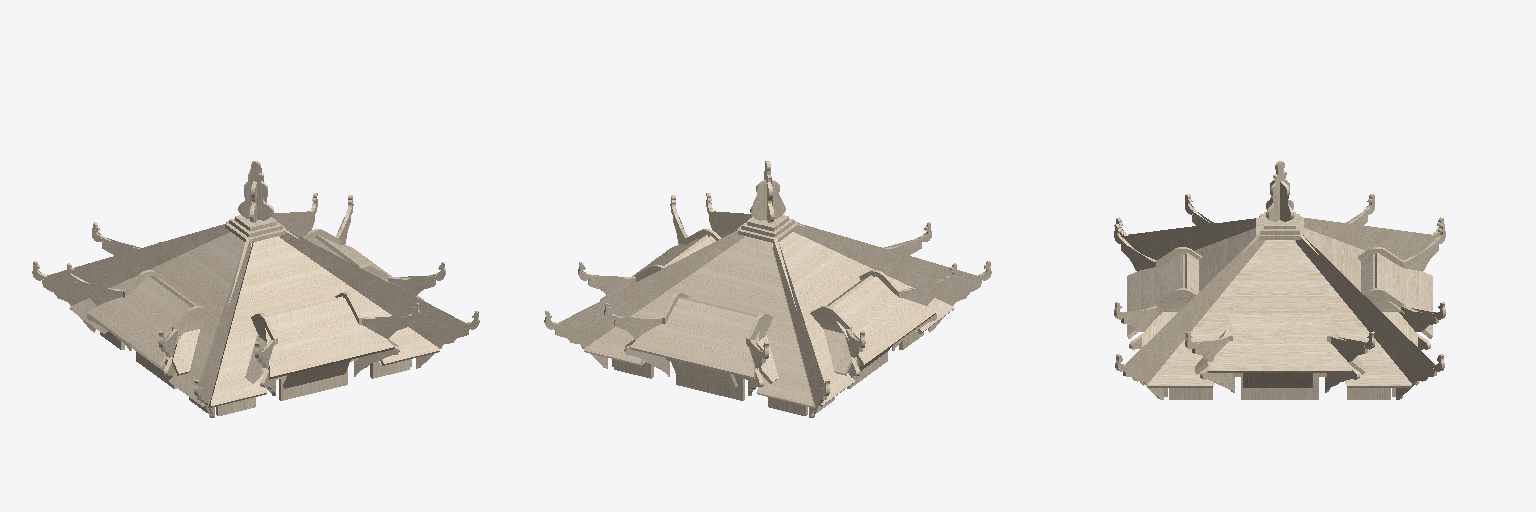
3 renders of one model, left to right at view 1: azimuth 30°, elevation 25°; view 2: azimuth 150°, elevation 25°; view 3: azimuth 270°, elevation 25°, orthographic.
Visible parts, largest first — view 1: Mesh89 ___620_3 ___660_3 ___1326_1 Model, Mesh85 ___654_5 ___1326_1 Model, Mesh62 ___628_4 ___659_4 ___1326_1 Model, Mesh99 ___654_6 ___1326_1 Model, Mesh7 ___620_1 ___660_1 ___1326_1 Model, Mesh52 ___628_2 ___659_2 ___1326_1 Model, Mesh54 ___654_2 ___1326_1 Model, Mesh20 ___654_1 ___1326_1 Model, Mesh58 ___628_3 ___659_3 ___1326_1 Model, Mesh22 __1 ___650_1 ___1326_1 Model, Mesh2 ___668_1 ___1326_1 Model, Mesh98 ___611_3 ___660_3 ___1326_1 Model (+7 smaller); view 2: Mesh105 ___620_4 ___660_4 ___1326_1 Model, Mesh101 ___654_8 ___1326_1 Model, Mesh67 ___654_3 ___1326_1 Model, Mesh25 ___628_1 ___659_1 ___1326_1 Model, Mesh7 ___620_1 ___660_1 ___1326_1 Model, Mesh58 ___628_3 ___659_3 ___1326_1 Model, Mesh20 ___654_1 ___1326_1 Model, Mesh54 ___654_2 ___1326_1 Model, Mesh52 ___628_2 ___659_2 ___1326_1 Model, Mesh69 ___668_4 ___1326_1 Model, Mesh114 ___611_4 ___660_4 ___1326_1 Model, Mesh15 ___624_2 ___660_1 ___1326_1 Model (+7 smaller); view 3: Mesh75 ___620_2 ___660_2 ___1326_1 Model, Mesh100 ___654_7 ___1326_1 Model, Mesh71 ___654_4 ___1326_1 Model, Mesh25 ___628_1 ___659_1 ___1326_1 Model, Mesh62 ___628_4 ___659_4 ___1326_1 Model, Mesh52 ___628_2 ___659_2 ___1326_1 Model, Mesh58 ___628_3 ___659_3 ___1326_1 Model, Mesh89 ___620_3 ___660_3 ___1326_1 Model, Mesh105 ___620_4 ___660_4 ___1326_1 Model, Mesh85 ___654_5 ___1326_1 Model, Mesh101 ___654_8 ___1326_1 Model, Mesh84 ___611_2 ___660_2 ___1326_1 Model (+10 smaller).
Boxes of the visible parts, x1,y1,x2,y2 form: Mesh89 ___620_3 ___660_3 ___1326_1 Model: [265, 298, 394, 379]; Mesh85 ___654_5 ___1326_1 Model: [209, 239, 294, 407]; Mesh62 ___628_4 ___659_4 ___1326_1 Model: [280, 229, 469, 346]; Mesh99 ___654_6 ___1326_1 Model: [266, 236, 439, 365]; Mesh7 ___620_1 ___660_1 ___1326_1 Model: [88, 276, 190, 366]; Mesh52 ___628_2 ___659_2 ___1326_1 Model: [42, 222, 229, 304]; Mesh54 ___654_2 ___1326_1 Model: [169, 237, 244, 406]; Mesh20 ___654_1 ___1326_1 Model: [69, 232, 237, 333]; Mesh58 ___628_3 ___659_3 ___1326_1 Model: [197, 237, 250, 403]; Mesh22 __1 ___650_1 ___1326_1 Model: [238, 161, 273, 220]; Mesh2 ___668_1 ___1326_1 Model: [279, 368, 347, 400]; Mesh98 ___611_3 ___660_3 ___1326_1 Model: [283, 360, 350, 388]; Mesh105 ___620_4 ___660_4 ___1326_1 Model: [629, 298, 759, 379]; Mesh101 ___654_8 ___1326_1 Model: [729, 239, 814, 407]; Mesh67 ___654_3 ___1326_1 Model: [584, 236, 757, 365]; Mesh25 ___628_1 ___659_1 ___1326_1 Model: [554, 229, 743, 346]; Mesh7 ___620_1 ___660_1 ___1326_1 Model: [833, 276, 935, 366]; Mesh58 ___628_3 ___659_3 ___1326_1 Model: [794, 222, 981, 304]; Mesh20 ___654_1 ___1326_1 Model: [779, 237, 854, 406]; Mesh54 ___654_2 ___1326_1 Model: [786, 232, 954, 333]; Mesh52 ___628_2 ___659_2 ___1326_1 Model: [773, 237, 826, 403]; Mesh69 ___668_4 ___1326_1 Model: [676, 374, 744, 400]; Mesh114 ___611_4 ___660_4 ___1326_1 Model: [670, 359, 737, 387]; Mesh15 ___624_2 ___660_1 ___1326_1 Model: [824, 329, 851, 375]; Mesh75 ___620_2 ___660_2 ___1326_1 Model: [1208, 313, 1351, 372]; Mesh100 ___654_7 ___1326_1 Model: [1148, 240, 1279, 387]; Mesh71 ___654_4 ___1326_1 Model: [1280, 240, 1411, 387]; Mesh25 ___628_1 ___659_1 ___1326_1 Model: [1296, 234, 1436, 382]; Mesh62 ___628_4 ___659_4 ___1326_1 Model: [1123, 234, 1263, 382]; Mesh52 ___628_2 ___659_2 ___1326_1 Model: [1300, 217, 1435, 259]; Mesh58 ___628_3 ___659_3 ___1326_1 Model: [1124, 217, 1259, 259]; Mesh89 ___620_3 ___660_3 ___1326_1 Model: [1127, 253, 1184, 338]; Mesh105 ___620_4 ___660_4 ___1326_1 Model: [1375, 253, 1432, 338]; Mesh85 ___654_5 ___1326_1 Model: [1195, 228, 1255, 279]; Mesh101 ___654_8 ___1326_1 Model: [1304, 228, 1364, 279]; Mesh84 ___611_2 ___660_2 ___1326_1 Model: [1243, 373, 1312, 387].
Bounding box in the file's own units: 163 × 102 × 163.
3 materials, 1 textured.